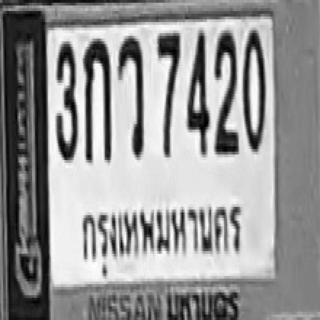A01: (83, 36, 111, 160)
A37: (116, 33, 143, 154)
N00: (241, 27, 265, 149)
N02: (213, 28, 238, 152)
N03: (54, 37, 77, 159)
N04: (186, 29, 208, 153)
N07: (156, 30, 179, 155)
P04: (74, 197, 244, 280)
